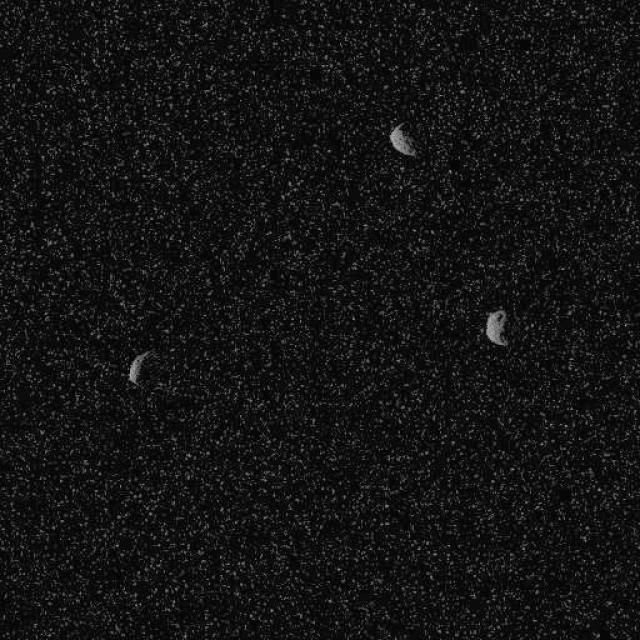D2: (388, 120, 418, 158), (126, 349, 155, 386), (484, 308, 508, 347)
